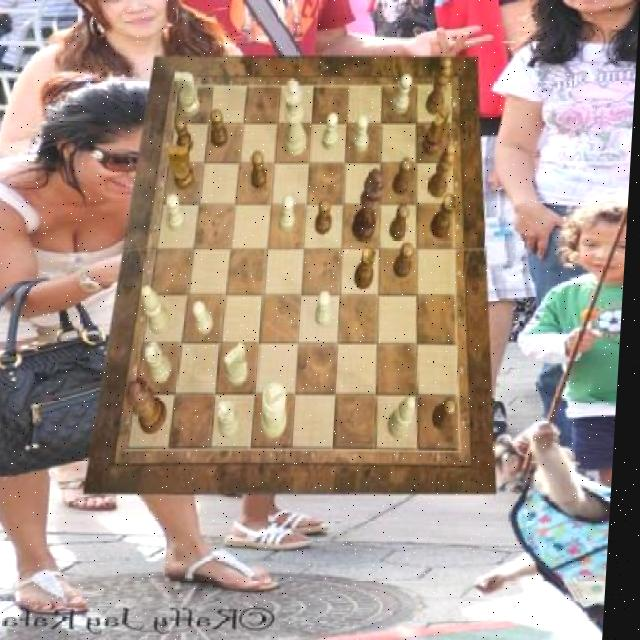bishop: (429, 145, 457, 199), (426, 57, 451, 115)
black-bishop: (354, 169, 388, 243)
black-king: (424, 106, 452, 156), (166, 145, 196, 190)
black-knight: (436, 397, 462, 431), (174, 117, 196, 155), (391, 203, 412, 241), (393, 159, 414, 196), (395, 242, 416, 278), (211, 109, 230, 148), (251, 151, 270, 189), (317, 198, 335, 234)
black-pawn: (128, 377, 173, 435)
black-queen: (432, 194, 459, 240), (356, 246, 380, 290)
black-rook: (143, 286, 176, 336), (392, 395, 420, 438)
white-bishop: (264, 382, 293, 439)
white-king: (174, 71, 203, 116), (227, 342, 253, 386)
white-knight: (194, 302, 218, 336), (166, 194, 188, 231), (392, 74, 412, 114), (286, 78, 304, 117), (352, 115, 370, 153), (323, 112, 341, 150), (319, 291, 337, 327), (281, 196, 298, 232)
white-pawn: (282, 82, 310, 156)
white-queen: (148, 343, 177, 385), (221, 400, 246, 438)
